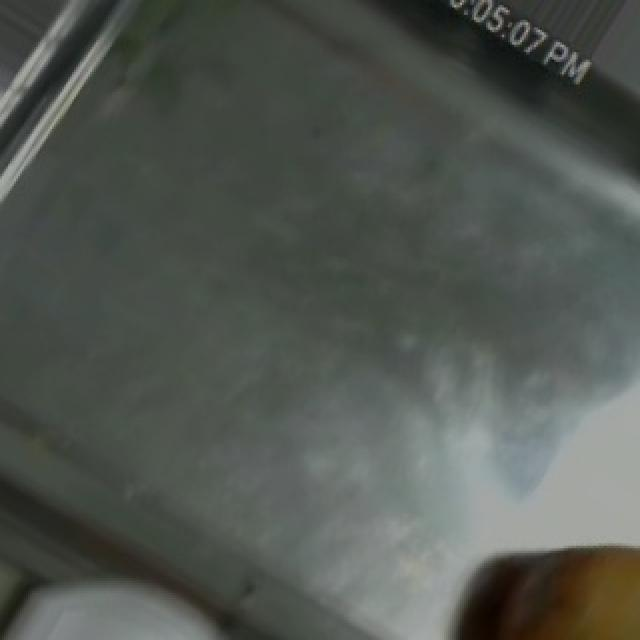fruit: (462, 516, 640, 640)
